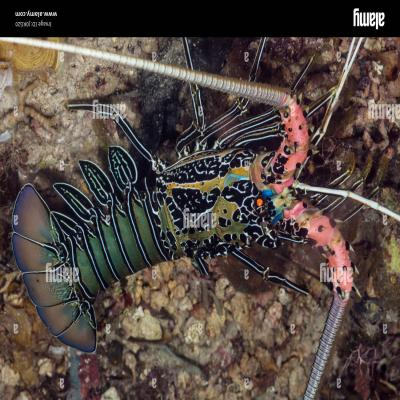lobster: (14, 119, 342, 297)
